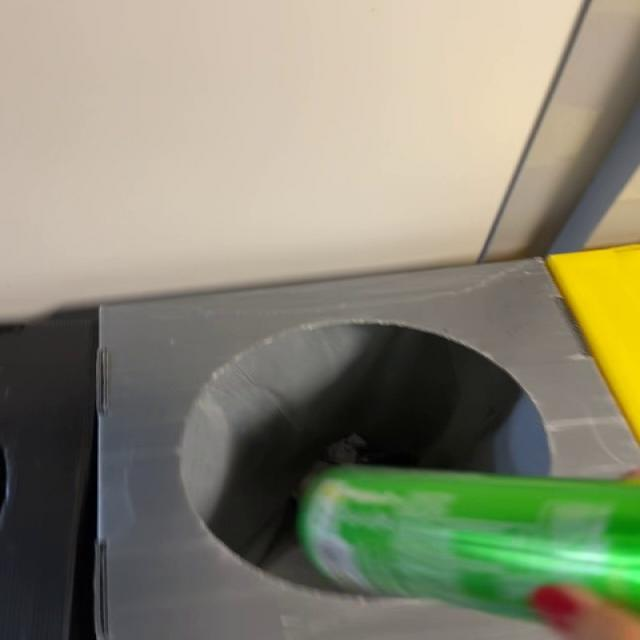bin: (99, 260, 637, 640)
metal: (299, 466, 637, 620)
